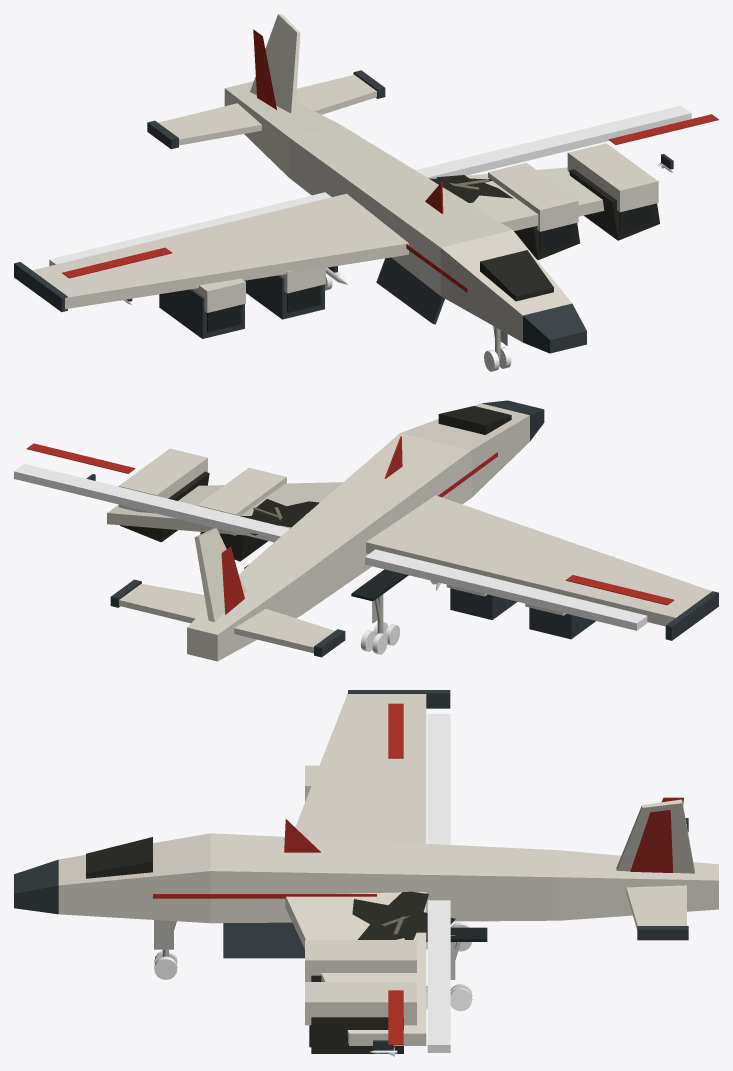
The picture shows the model from 3 angles, top to bottom: view 1: azimuth 30°, elevation 25°; view 2: azimuth 150°, elevation 25°; view 3: azimuth 270°, elevation 25°; orthographic projection. The views are drawn at different scales.
Visible parts, largest first — view 1: bomber-damaged-fleet-armor, bomber-damaged-fleet-machine, bomber-damaged-fleet-damage-charred, flap-right-painted, bomber-damaged-fleet-red, bomber-damaged-fleet-rubber, flap-left-painted; view 2: bomber-damaged-fleet-armor, bomber-damaged-fleet-machine, flap-left-painted, flap-right-painted, bomber-damaged-fleet-damage-charred, bomber-damaged-fleet-red, bomber-damaged-fleet-rubber; view 3: bomber-damaged-fleet-armor, bomber-damaged-fleet-damage-charred, bomber-damaged-fleet-machine, bomber-damaged-fleet-red, flap-right-painted, flap-left-painted, landing-gear-nose-fleet-edge, bomber-damaged-fleet-rubber.
Part boxes in pixels (x1=…): bomber-damaged-fleet-armor: x1=32, y1=14, x2=658, y2=342; bomber-damaged-fleet-machine: x1=14, y1=70, x2=673, y2=353; bomber-damaged-fleet-damage-charred: x1=429, y1=169, x2=659, y2=301; flap-right-painted: x1=415, y1=105, x2=691, y2=178; bomber-damaged-fleet-red: x1=62, y1=29, x2=718, y2=292; bomber-damaged-fleet-rubber: x1=207, y1=204, x2=653, y2=332; flap-left-painted: x1=49, y1=192, x2=331, y2=265; bomber-damaged-fleet-armor: x1=107, y1=403, x2=711, y2=661; bomber-damaged-fleet-machine: x1=86, y1=400, x2=718, y2=657; flap-left-painted: x1=365, y1=549, x2=647, y2=630; flap-right-painted: x1=14, y1=463, x2=289, y2=542; bomber-damaged-fleet-damage-charred: x1=120, y1=406, x2=511, y2=561; bomber-damaged-fleet-red: x1=26, y1=436, x2=674, y2=614; bomber-damaged-fleet-rubber: x1=244, y1=564, x2=408, y2=601; bomber-damaged-fleet-armor: x1=58, y1=693, x2=718, y2=1045; bomber-damaged-fleet-damage-charred: x1=86, y1=837, x2=455, y2=1053; bomber-damaged-fleet-machine: x1=14, y1=690, x2=688, y2=1050; bomber-damaged-fleet-red: x1=153, y1=703, x2=683, y2=1044; flap-right-painted: x1=427, y1=900, x2=450, y2=1052; flap-left-painted: x1=427, y1=714, x2=450, y2=844; landing-gear-nose-fleet-edge: x1=154, y1=920, x2=176, y2=956; bomber-damaged-fleet-rubber: x1=309, y1=927, x2=487, y2=1047.
Size of the model in its own units: 150 by 37.06 by 126.
